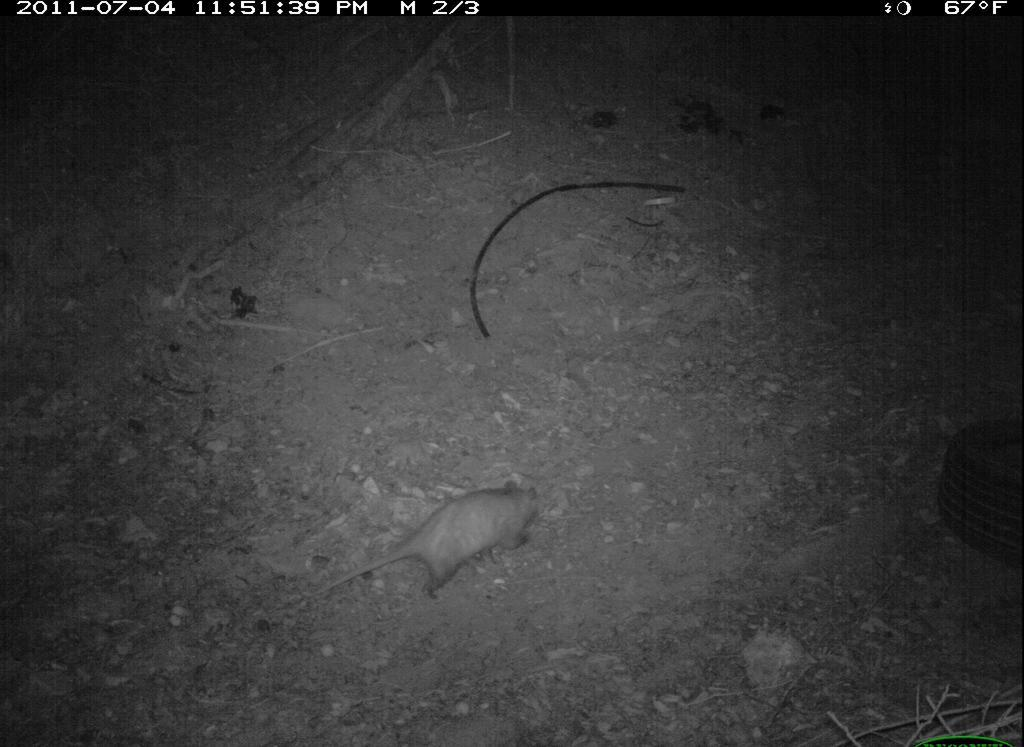opossum: (297, 468, 559, 624)
